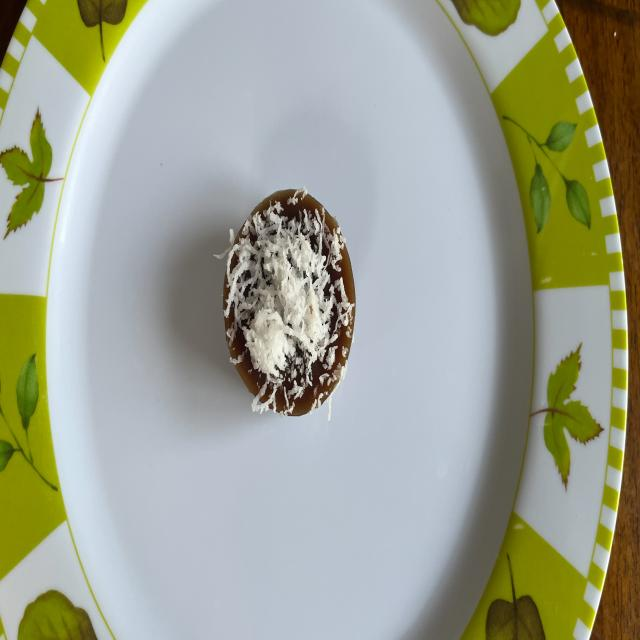Kuih lompang: (224, 189, 355, 416)
